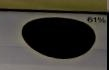screen_defect: (11, 2, 104, 64)
